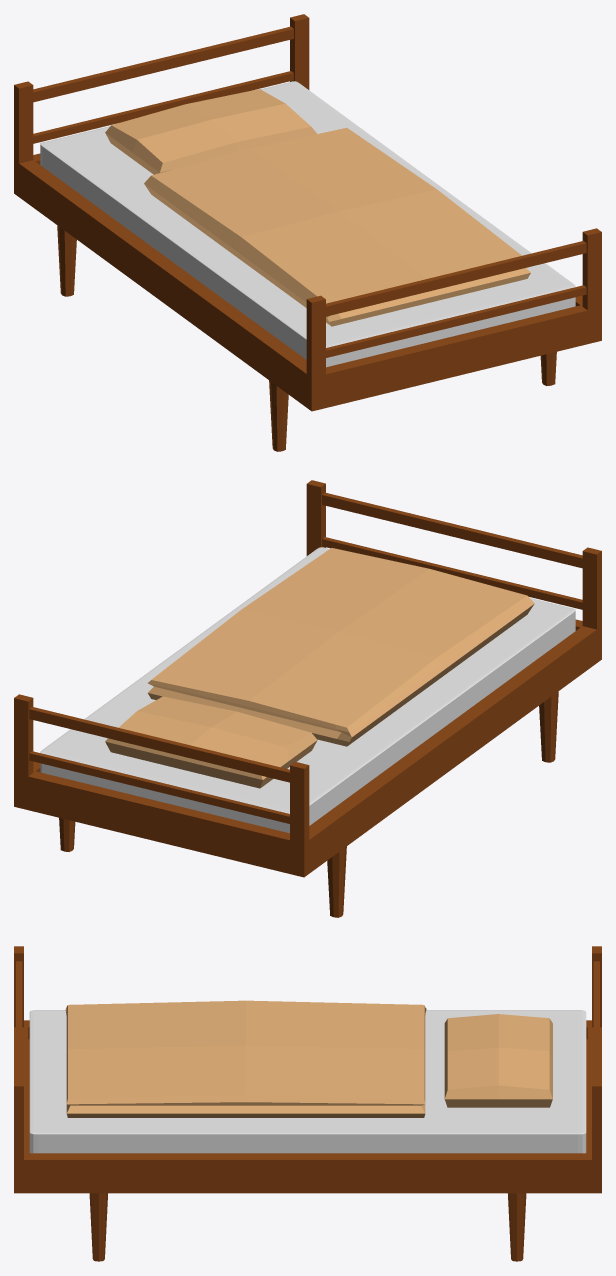
Rendered from mdl_bed.fbx.
3 renders of one model, top to bottom at view 1: azimuth 30°, elevation 25°; view 2: azimuth 150°, elevation 25°; view 3: azimuth 270°, elevation 25°, orthographic.
Parts seen in each view (by area): view 1: Cube.003, Cube.005, Cube.002, Cube.004; view 2: Cube.003, Cube.005, Cube.002, Cube.004; view 3: Cube.005, Cube.003, Cube.002, Cube.004.
Boxes of the visible parts, x1,y1,x2,y2 form: Cube.003: [14, 14, 601, 451]; Cube.005: [144, 128, 530, 326]; Cube.002: [40, 81, 575, 367]; Cube.004: [105, 89, 316, 174]; Cube.003: [14, 480, 601, 917]; Cube.005: [148, 548, 534, 746]; Cube.002: [40, 547, 575, 833]; Cube.004: [105, 696, 317, 788]; Cube.005: [65, 1000, 426, 1117]; Cube.003: [14, 946, 601, 1261]; Cube.002: [29, 1010, 586, 1153]; Cube.004: [444, 1014, 552, 1107].
Size of the model in its own units: 90 by 53.41 by 160.
